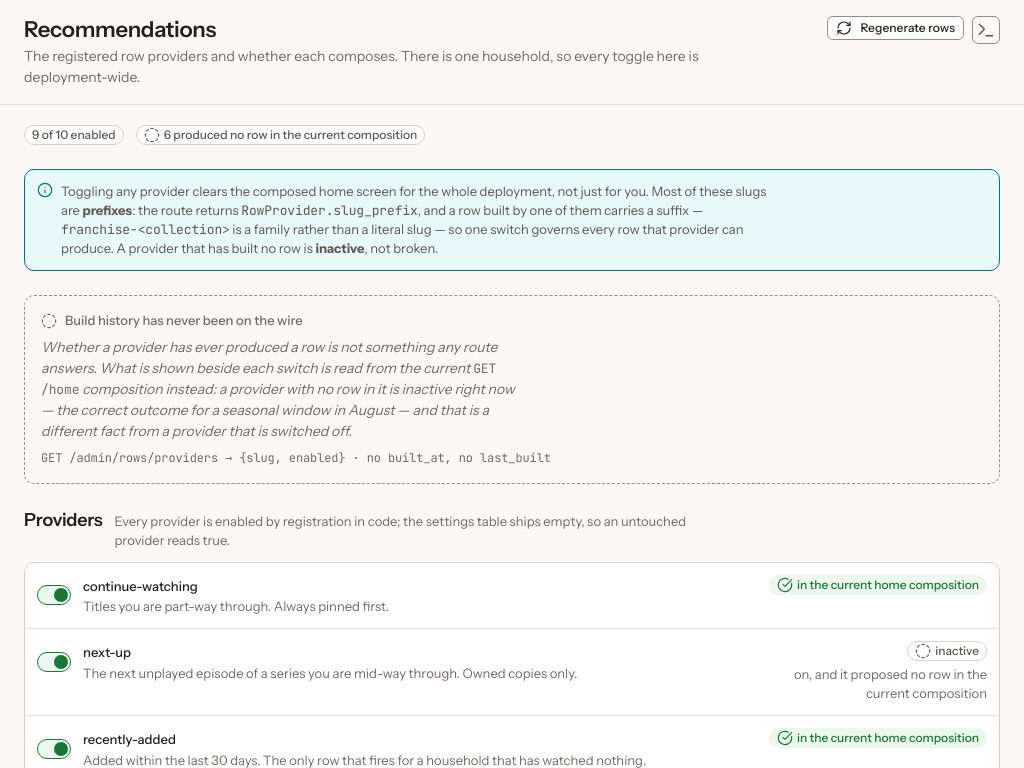
Test case: Rows › regeneration › raises a receipt that says Queued and prints the key
Click the button "Regenerate rows". click: coordinates (896, 28)
box: [828,16,964,40]
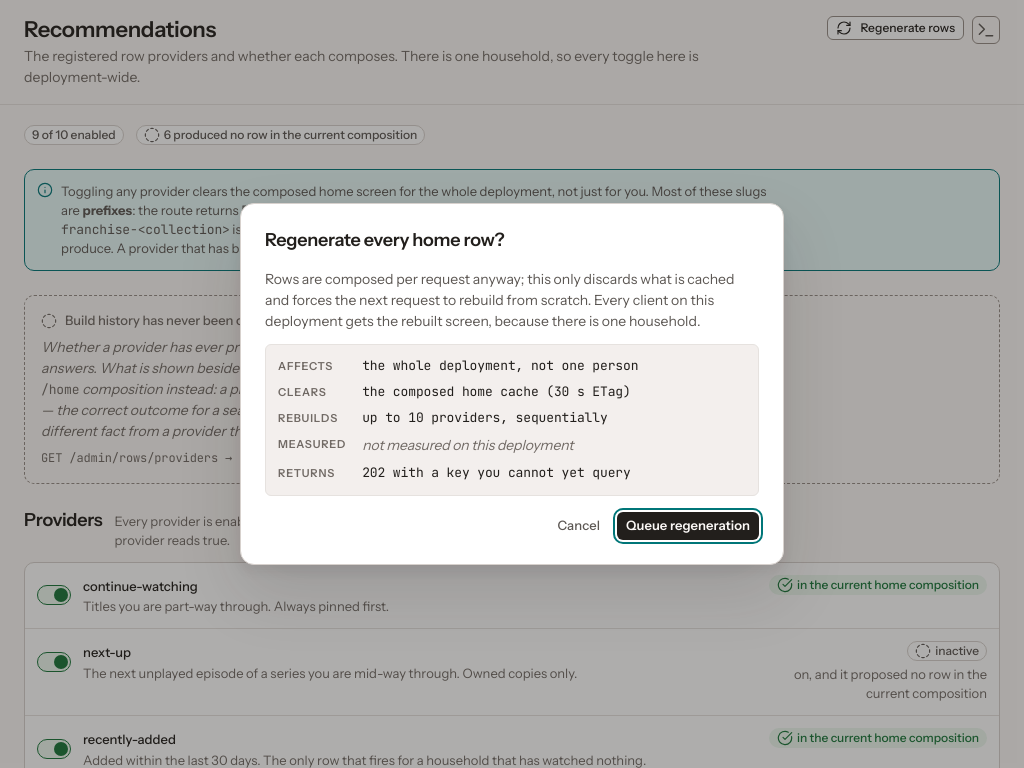
Click the button "Queue regeneration". click: coordinates (688, 526)
box: [617,512,759,540]
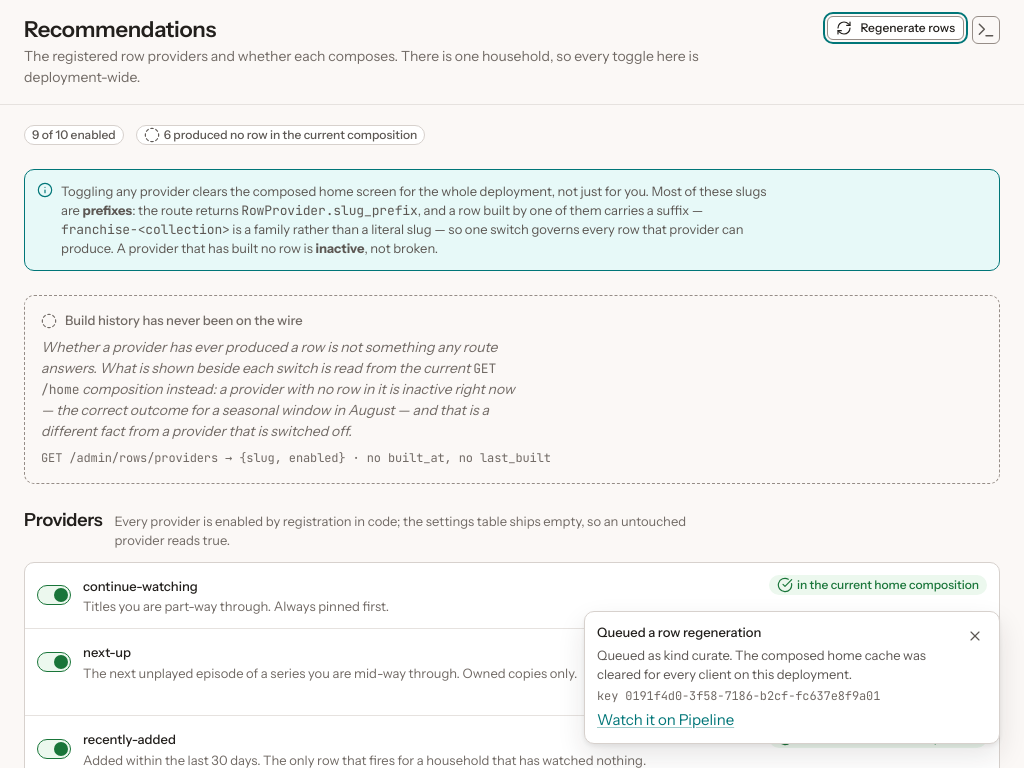
expect the text "Queued a row regeneration" is shown: met, box [597,624,761,640]
